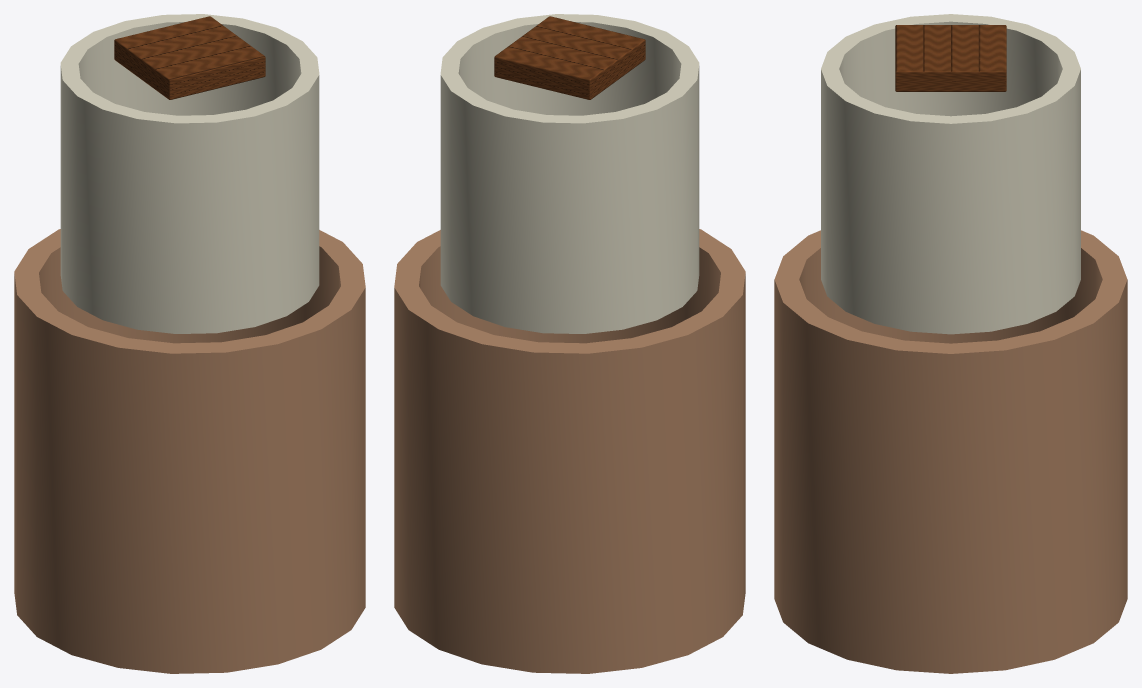
Rendered from water-collection-and-purification-ceramic-filter-pot-bfd9782f__20187.glb.
3 views of the same model, side by side, from view 1: azimuth 30°, elevation 25°; view 2: azimuth 150°, elevation 25°; view 3: azimuth 270°, elevation 25° (orthographic).
Visible parts, largest first — view 1: ceramic-filter-pot; view 2: ceramic-filter-pot; view 3: ceramic-filter-pot.
Part boxes in pixels (x1=…): ceramic-filter-pot: x1=14, y1=14, x2=365, y2=673; ceramic-filter-pot: x1=394, y1=14, x2=745, y2=673; ceramic-filter-pot: x1=774, y1=14, x2=1127, y2=673.
Bounding box in the file's own units: 0.38 × 0.655 × 0.38.
Materials: 3 (1 with a texture image).
